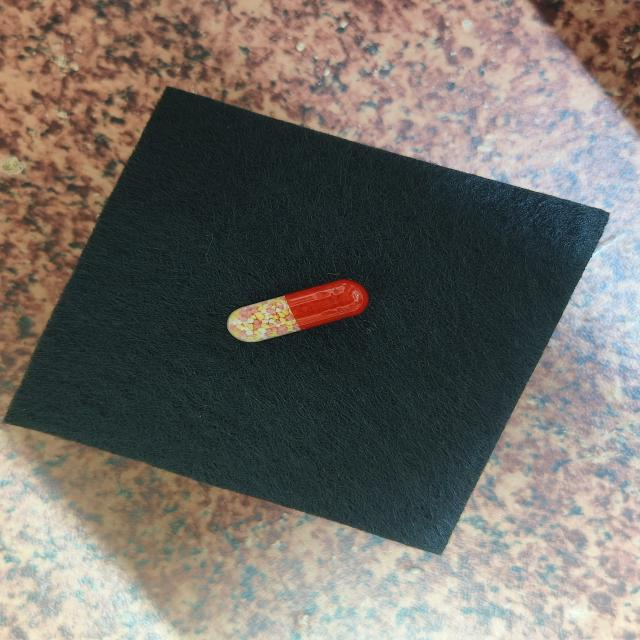Intact Capsule: (226, 279, 369, 342)
